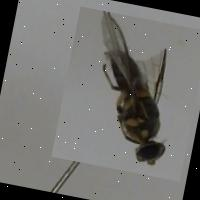Oriental-fruit-fly: (50, 6, 200, 181)
